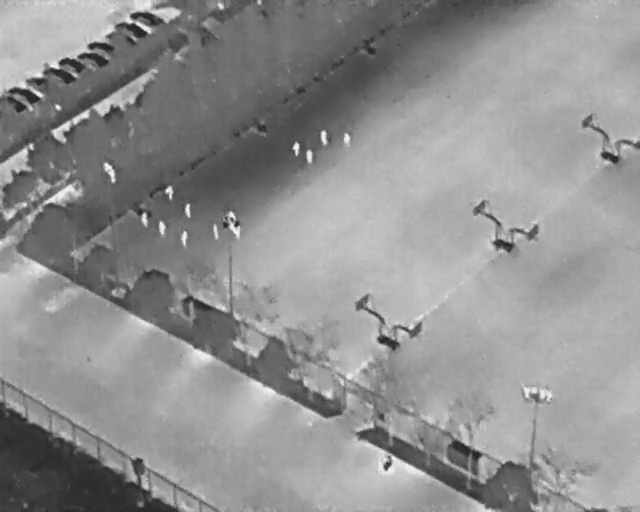Bicycle: (379, 452, 395, 472)
Car: (21, 66, 61, 101), (111, 13, 151, 45), (73, 44, 112, 76), (6, 79, 43, 110), (41, 58, 78, 89), (126, 6, 164, 32), (104, 26, 139, 52), (56, 51, 88, 78), (85, 36, 118, 59), (0, 92, 27, 116)
Person: (156, 219, 168, 240), (163, 185, 174, 203), (179, 229, 189, 248), (304, 149, 315, 165), (211, 222, 220, 241), (291, 140, 301, 157), (140, 211, 149, 229), (182, 203, 192, 219), (321, 128, 329, 146), (342, 132, 352, 145)
